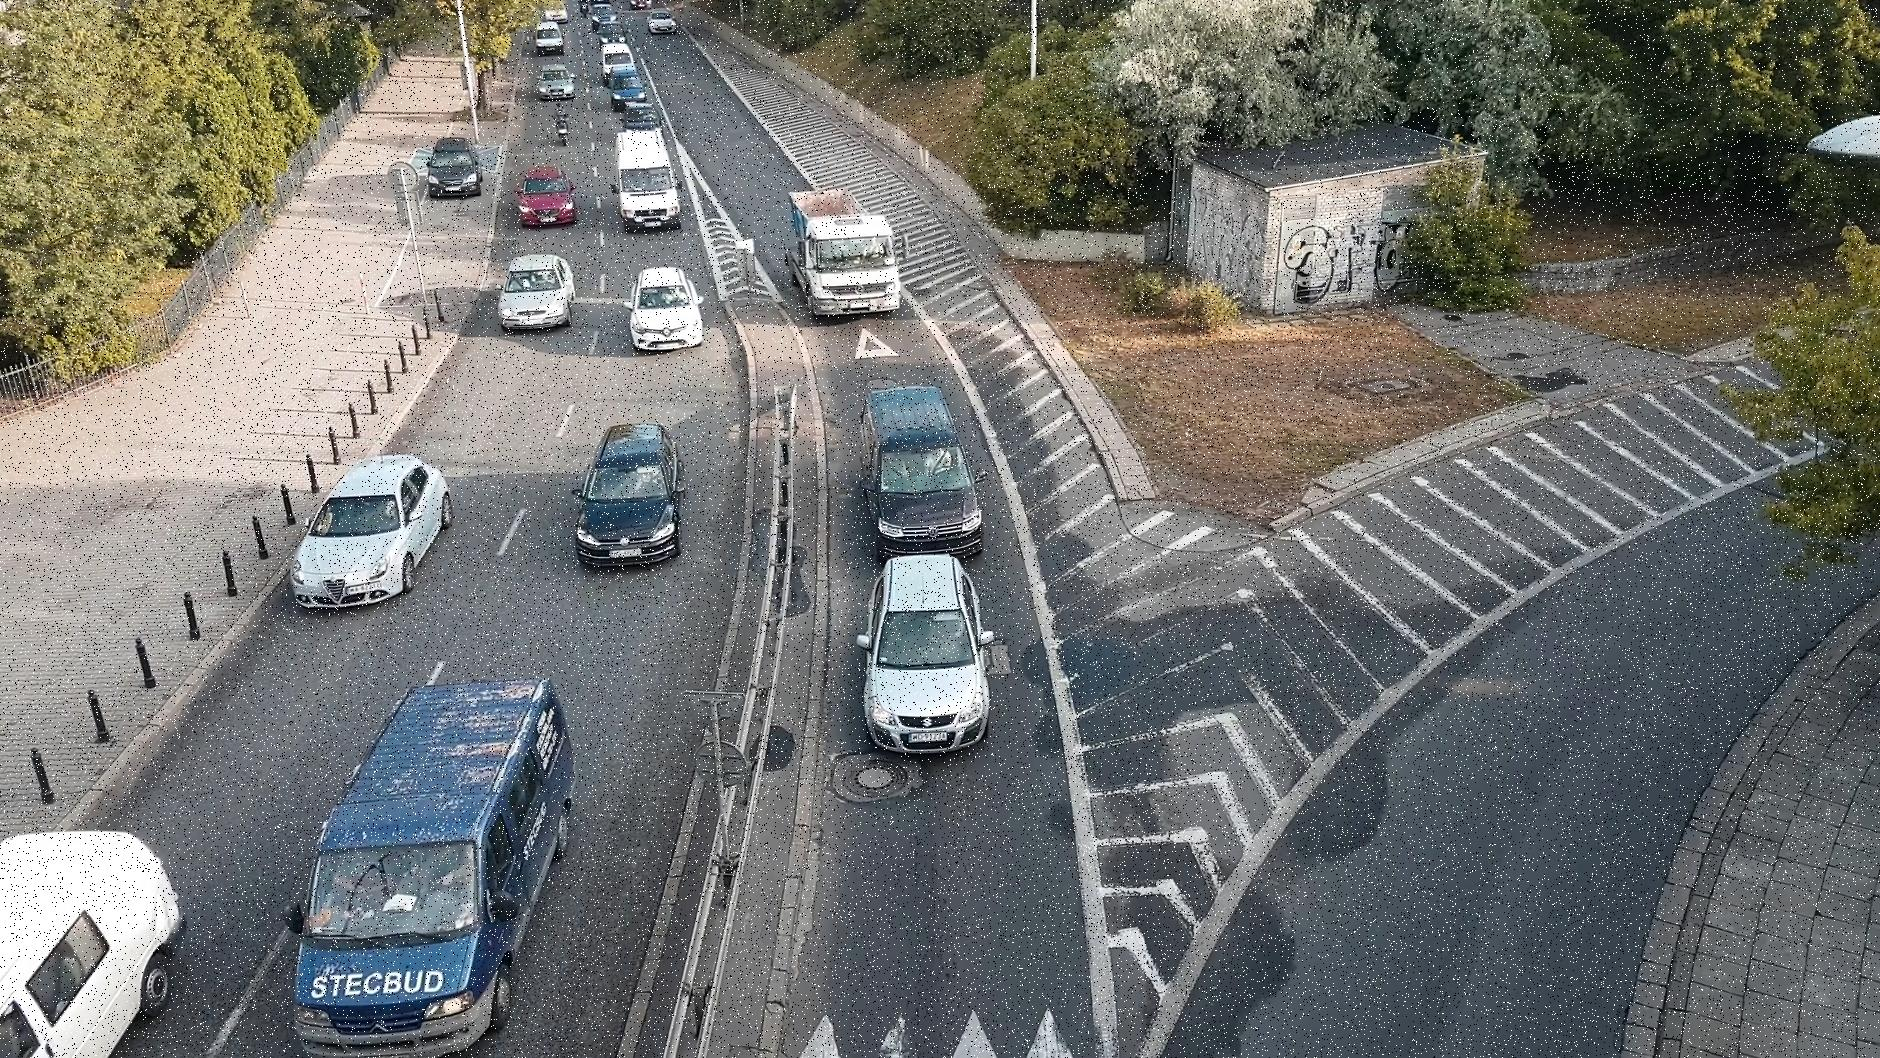bike: (549, 98, 575, 146)
car: (281, 659, 584, 1058), (0, 801, 179, 1058), (853, 555, 998, 747), (847, 381, 997, 565), (284, 450, 455, 607), (575, 413, 686, 563), (609, 120, 690, 236), (626, 260, 704, 345), (497, 249, 578, 328), (513, 161, 585, 230), (426, 129, 480, 198), (606, 63, 651, 112)
truck: (776, 187, 908, 315)
